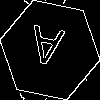A: (25, 25, 65, 76)
